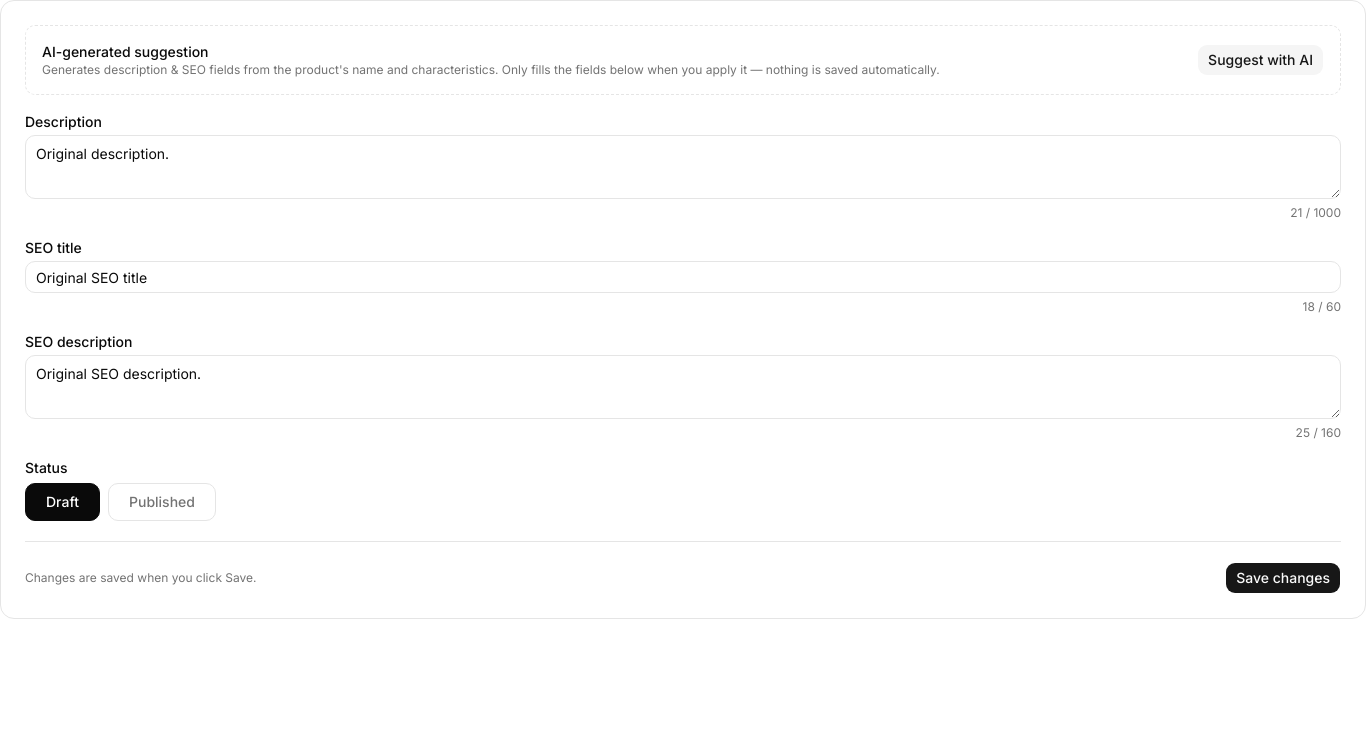
Test: ProductEditorForm suggestion flow › discards the suggestion without touching the editor fields
The image size is (1366, 734).
Click the button "Suggest with AI" at (1261, 60), box [1197, 44, 1324, 76]
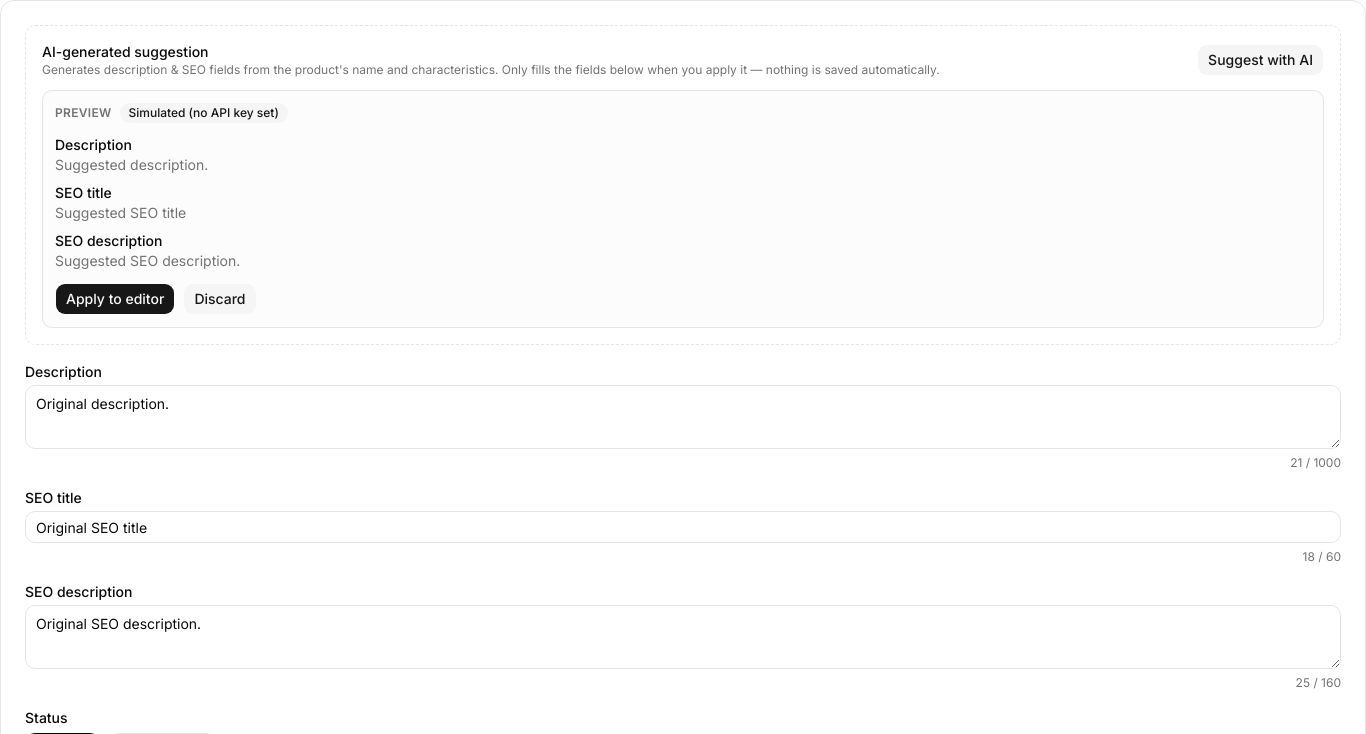
Result: the text "Suggested description." is shown at [55, 156, 208, 173]
Click the button "Discard" at (220, 299), box [183, 283, 256, 315]
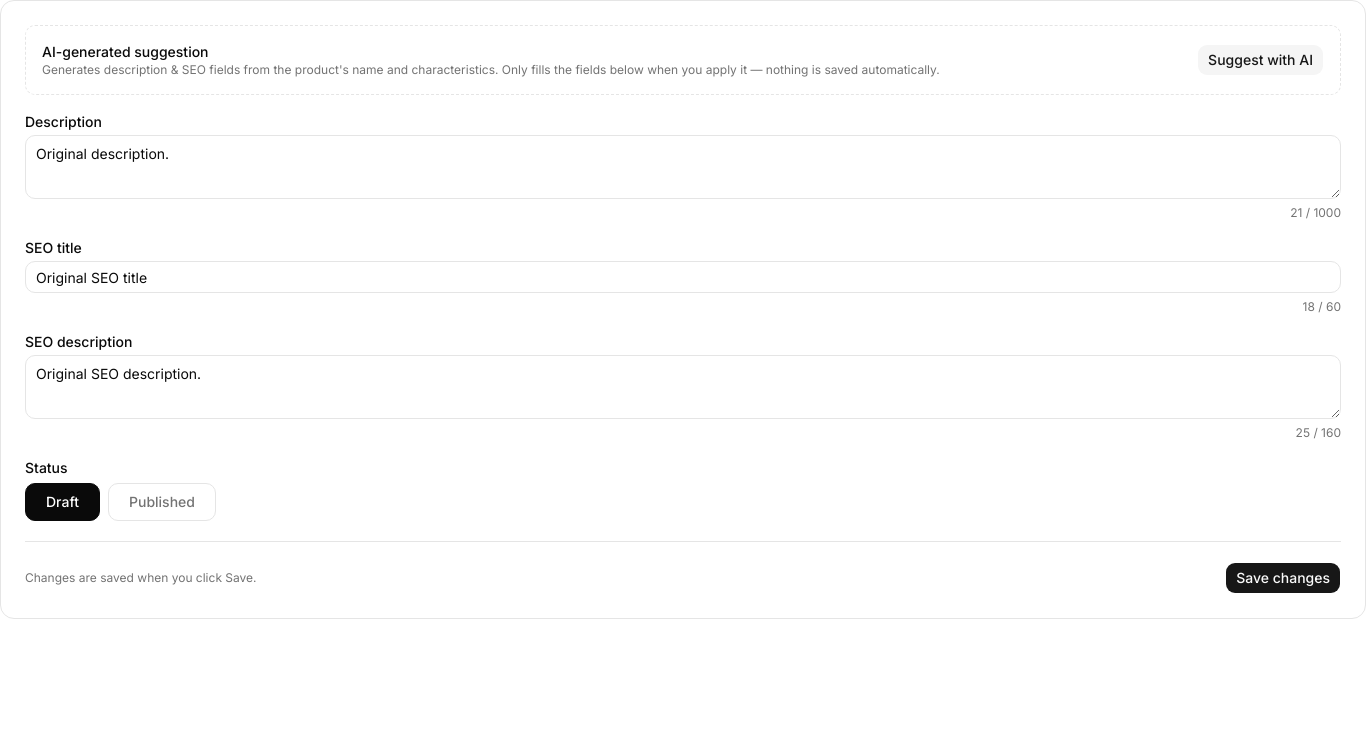
Expected: the text box labelled "Description" holds "Original description.", [25, 135, 1341, 199]
Result: the text "Suggested description." is gone
